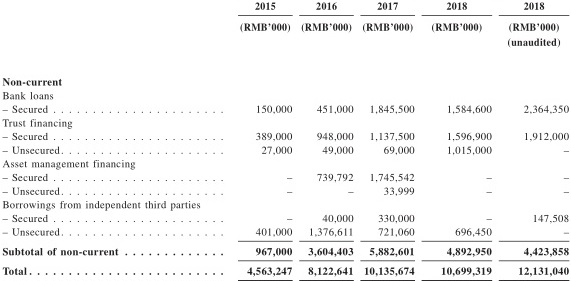column: (2, 3, 224, 281), (421, 1, 493, 281), (499, 1, 568, 281), (237, 1, 294, 281), (299, 1, 354, 281), (360, 1, 415, 281)
row: (2, 118, 571, 130), (2, 158, 571, 170), (4, 200, 571, 212), (1, 77, 571, 88), (2, 22, 571, 33), (3, 37, 571, 48), (3, 226, 571, 237), (3, 185, 570, 196), (3, 213, 570, 224), (1, 104, 571, 114), (1, 132, 570, 142), (2, 266, 571, 276), (2, 246, 569, 256), (1, 91, 571, 100), (2, 145, 571, 154), (2, 173, 566, 182), (1, 2, 571, 10)
